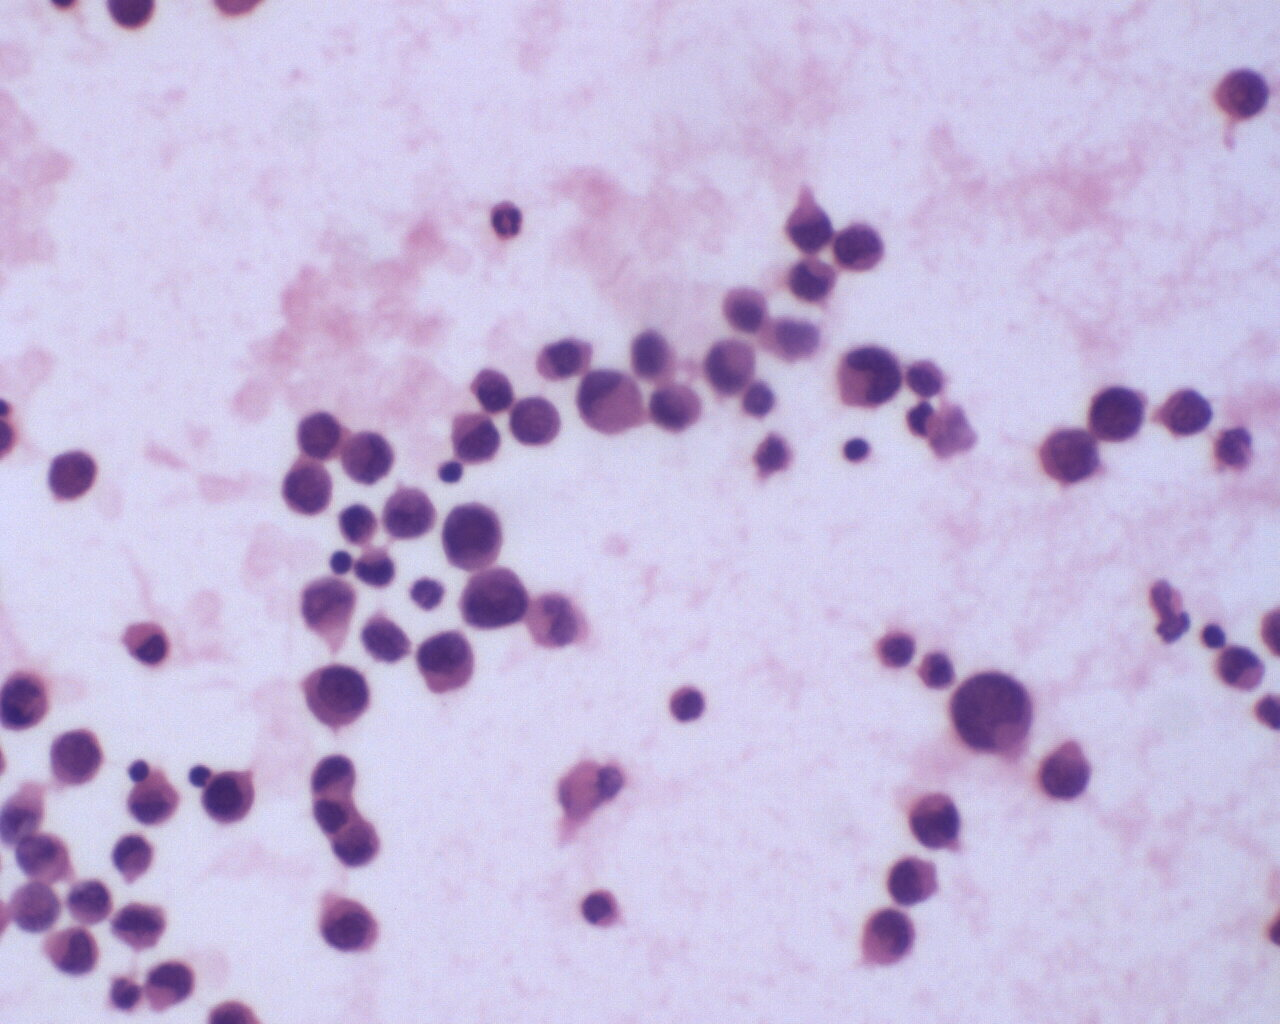ab: (949, 668, 1040, 762), (300, 658, 374, 734), (832, 341, 907, 412), (413, 628, 485, 699), (456, 562, 530, 630), (438, 499, 506, 572), (1038, 422, 1104, 490), (38, 442, 101, 511), (1084, 382, 1149, 447), (856, 903, 920, 970), (906, 787, 968, 854), (783, 180, 834, 259), (1211, 62, 1273, 125), (1040, 735, 1096, 802), (197, 766, 259, 828), (317, 898, 379, 958), (47, 724, 103, 791), (339, 422, 394, 490), (447, 408, 505, 472), (377, 483, 439, 542), (277, 458, 333, 521), (1, 662, 51, 734), (1156, 381, 1214, 442), (113, 897, 171, 956), (833, 215, 887, 279), (10, 827, 71, 883), (43, 925, 103, 979), (508, 393, 562, 452), (888, 852, 942, 911), (293, 409, 344, 462)
lymph: (841, 429, 875, 467)
neutro: (488, 193, 528, 243)
